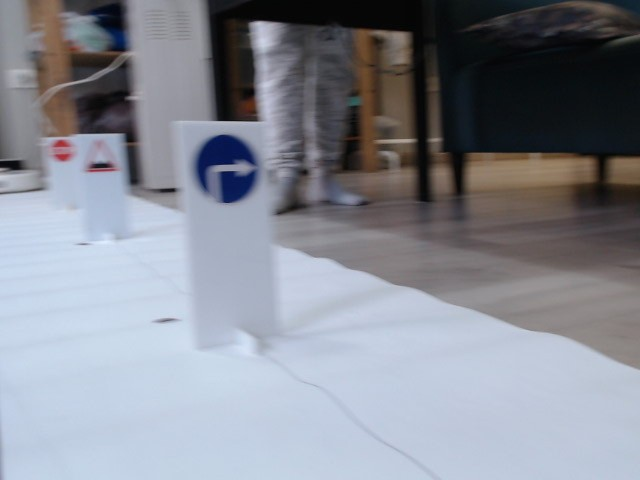Nerov: (82, 141, 116, 172)
Right: (199, 134, 257, 204)
